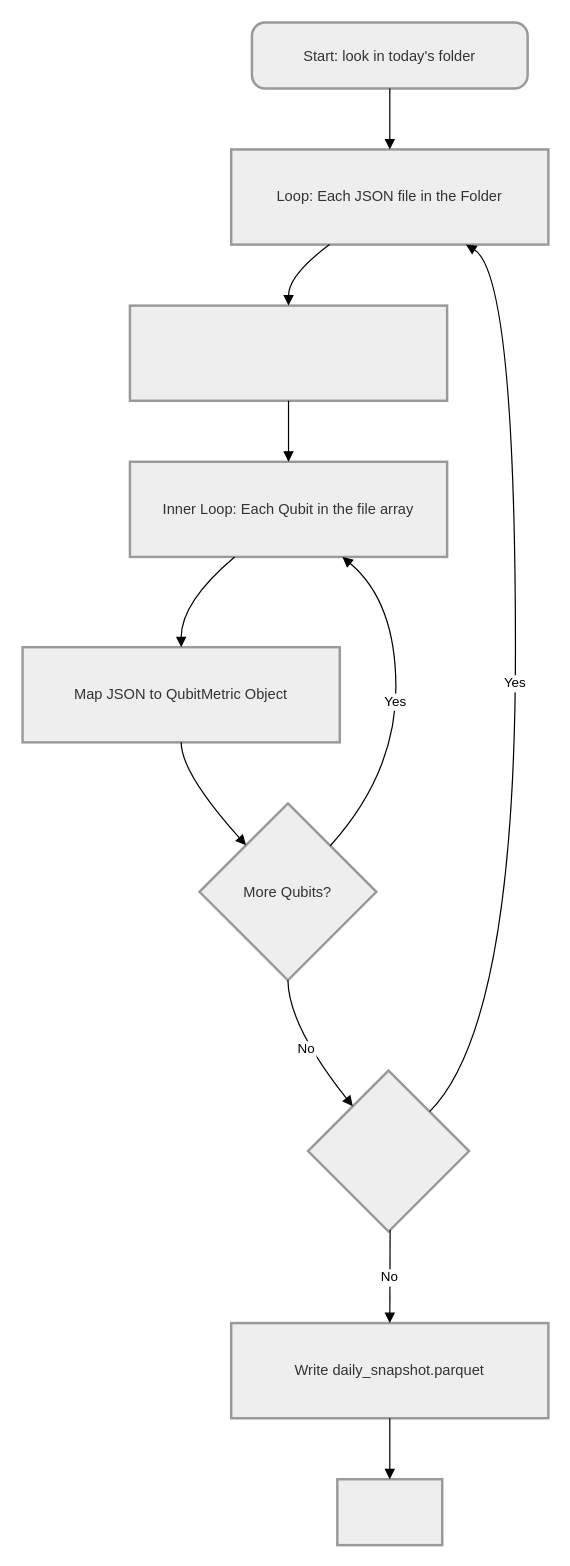
The diagram is 570 pixels wide and 1566 high, and some of its shapes have lost their labels. Here are the shapes that lost their labels. From the top down, the box of each, then its label:
(128, 304, 448, 401): Extract Machine information
(306, 1069, 470, 1232): More Files?
(336, 1477, 443, 1546): End
